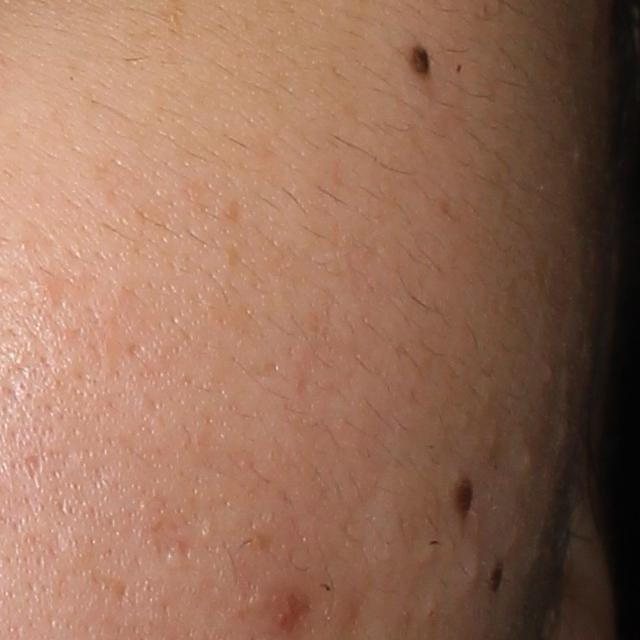atrophic_scar: (144, 518, 203, 563), (8, 451, 46, 489)
nevus: (448, 473, 477, 528), (405, 41, 434, 80), (487, 560, 506, 593)
